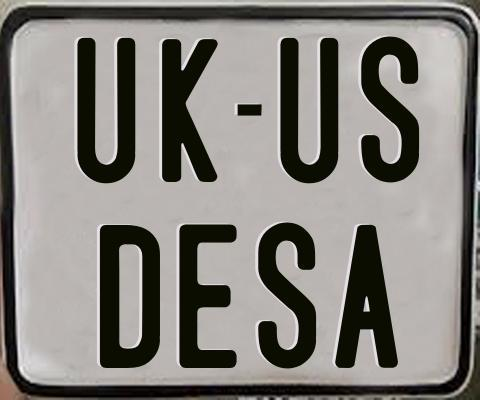A: (333, 225, 397, 373)
D: (98, 222, 158, 368)
E: (176, 221, 237, 369)
K: (159, 39, 215, 184)
S: (258, 222, 319, 371), (361, 33, 421, 184)
U: (74, 38, 136, 187), (279, 38, 339, 185)
